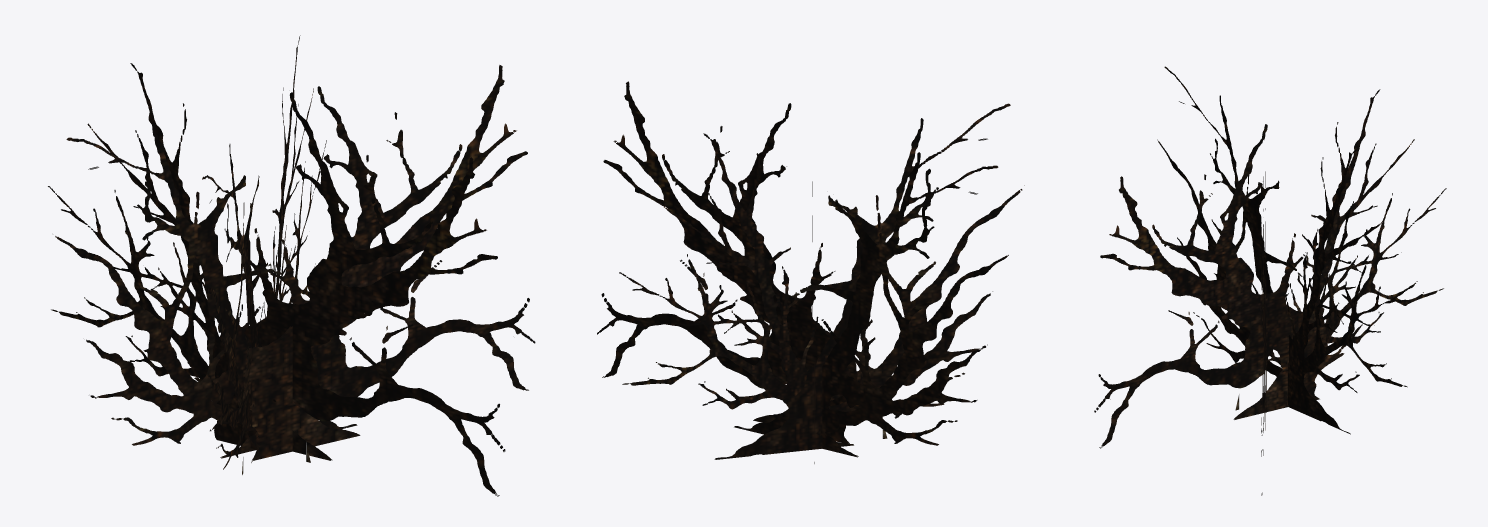
File: branch1.fbx
3 renders of one model, left to right at view 1: azimuth 30°, elevation 25°; view 2: azimuth 150°, elevation 25°; view 3: azimuth 270°, elevation 25°, orthographic. The views are drawn at different scales.
Parts seen in each view (by area): view 1: Plane_093; view 2: Plane_093; view 3: Plane_093.
Boxes of the visible parts, left/top/right/bottom form: Plane_093: left=48, top=35, right=535, bottom=496; Plane_093: left=597, top=81, right=1024, bottom=463; Plane_093: left=1094, top=66, right=1446, bottom=495.
Size of the model in its own units: 2.87 by 2.02 by 2.38.
